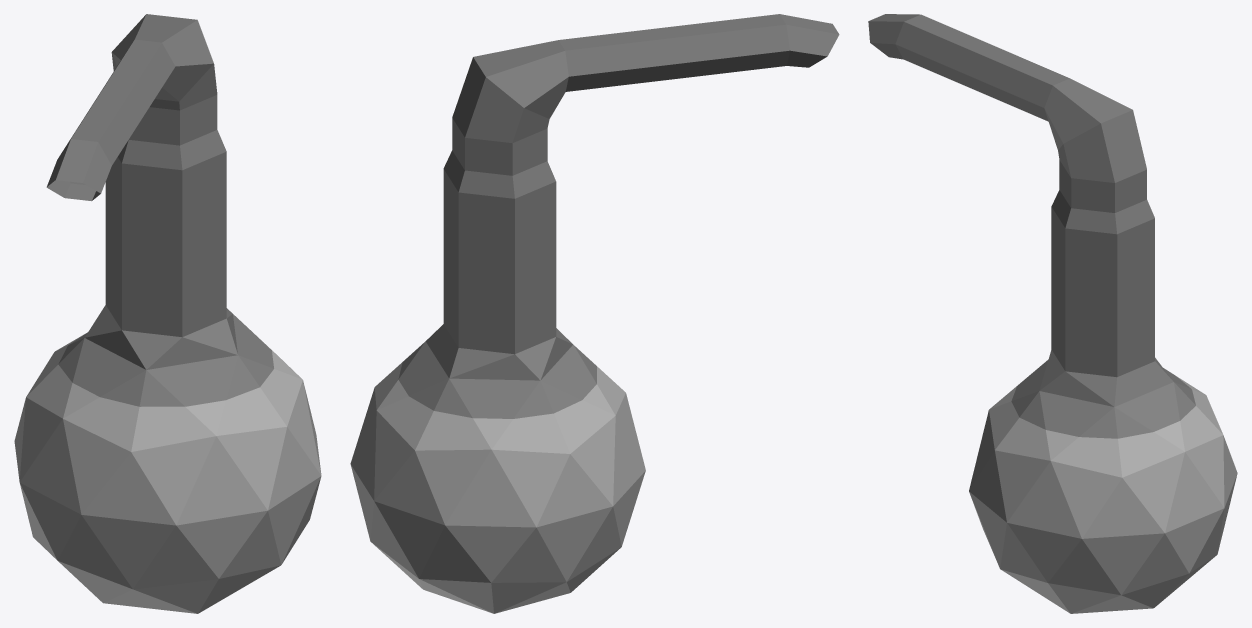
Rendered from alchemist_aparatus_749x26.gltf.
3 views of the same model, side by side, from view 1: azimuth 30°, elevation 25°; view 2: azimuth 150°, elevation 25°; view 3: azimuth 270°, elevation 25° (orthographic). The views are drawn at different scales.
Visible parts, largest first — view 1: alchemist_aparatus_749x26; view 2: alchemist_aparatus_749x26; view 3: alchemist_aparatus_749x26.
Part boxes in pixels (x1=…): alchemist_aparatus_749x26: x1=14, y1=14, x2=321, y2=613; alchemist_aparatus_749x26: x1=350, y1=14, x2=839, y2=613; alchemist_aparatus_749x26: x1=868, y1=14, x2=1237, y2=613.
Size of the model in its own units: 0.7126 by 1.07 by 0.7091.
Materials: 2 (2 with a texture image).
